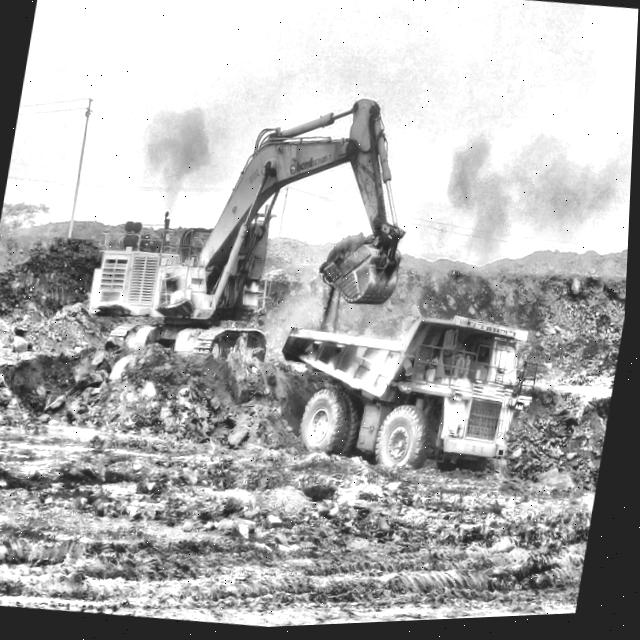dump_truck: (279, 312, 542, 475)
excavator: (90, 94, 410, 370)
